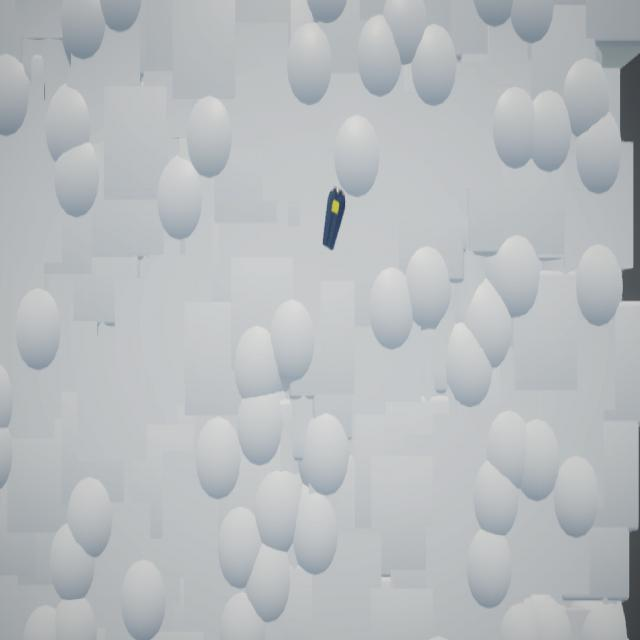handle_folk: (324, 188, 347, 252)
